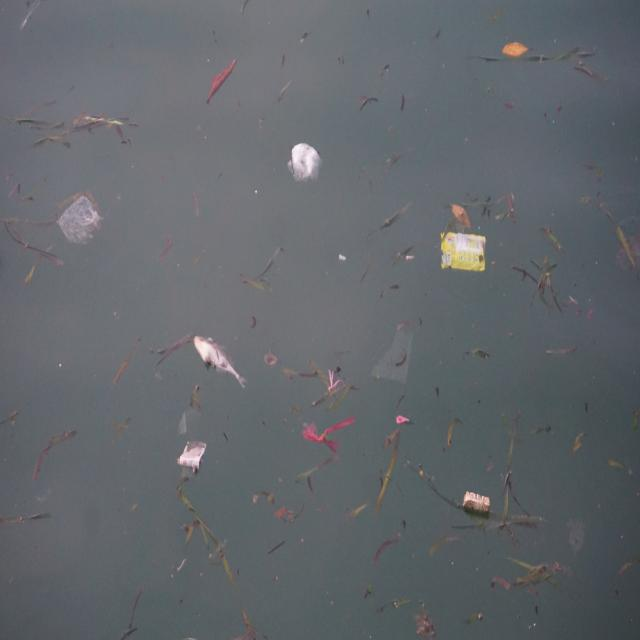Bungkus Makanan: (436, 222, 492, 280), (178, 431, 208, 486)
Kantong Plastik: (60, 193, 103, 248), (284, 138, 323, 186)
